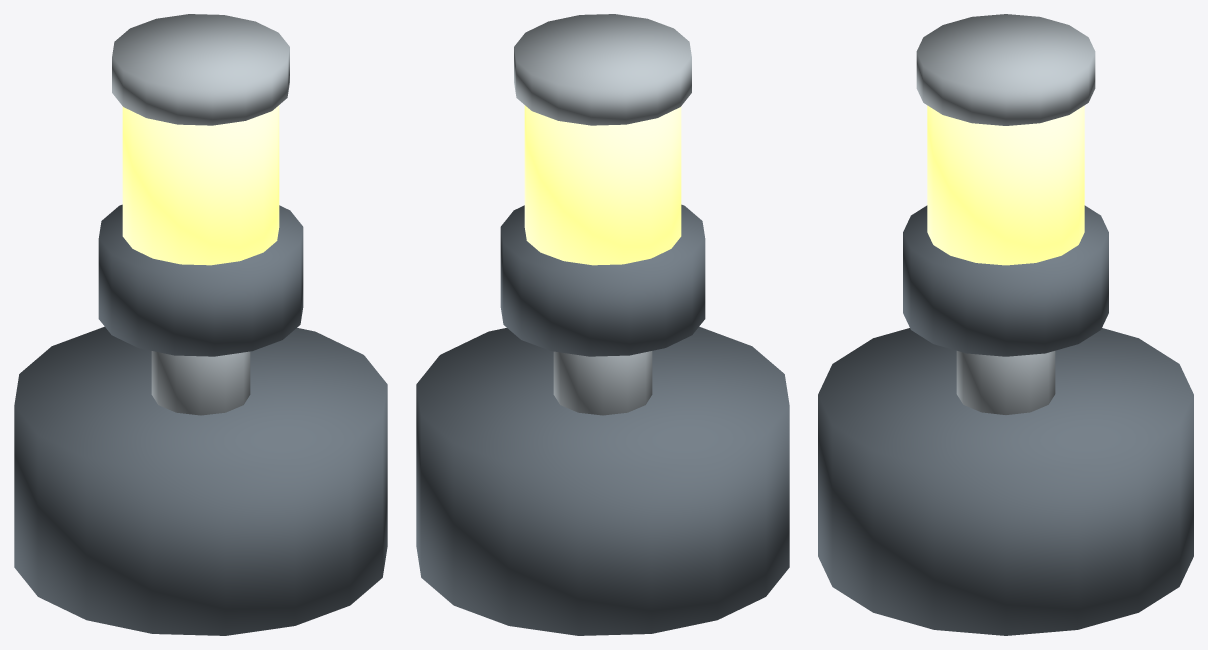
Rendered from floor_light_standard.glb.
The picture shows the model from 3 angles, left to right: view 1: azimuth 30°, elevation 25°; view 2: azimuth 150°, elevation 25°; view 3: azimuth 270°, elevation 25°; orthographic projection.
Visible parts, largest first — view 1: Base_dark, StatusLight_warn, Beacon_dark, Beacon_steel, Pole_steel; view 2: Base_dark, StatusLight_warn, Beacon_dark, Beacon_steel, Pole_steel; view 3: Base_dark, StatusLight_warn, Beacon_dark, Beacon_steel, Pole_steel.
Boxes of the visible parts, box(x1,y1,x2,y2) form: Base_dark: box(14, 326, 387, 635); StatusLight_warn: box(122, 105, 279, 265); Beacon_dark: box(98, 204, 303, 356); Beacon_steel: box(112, 14, 289, 125); Pole_steel: box(151, 351, 250, 415); Base_dark: box(416, 326, 789, 635); StatusLight_warn: box(524, 105, 681, 265); Beacon_dark: box(500, 204, 705, 356); Beacon_steel: box(514, 14, 691, 125); Pole_steel: box(553, 351, 652, 415); Base_dark: box(818, 328, 1193, 635); StatusLight_warn: box(927, 105, 1084, 265); Beacon_dark: box(903, 205, 1108, 356); Beacon_steel: box(916, 14, 1095, 125); Pole_steel: box(956, 351, 1055, 414).
Size of the model in its own units: 0.42 by 0.6225 by 0.42.
